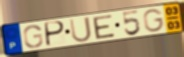5: (122, 9, 143, 37)
E: (92, 13, 117, 40)
G: (142, 8, 166, 33), (22, 24, 44, 49)
P: (45, 20, 67, 48)
U: (68, 16, 93, 44)
